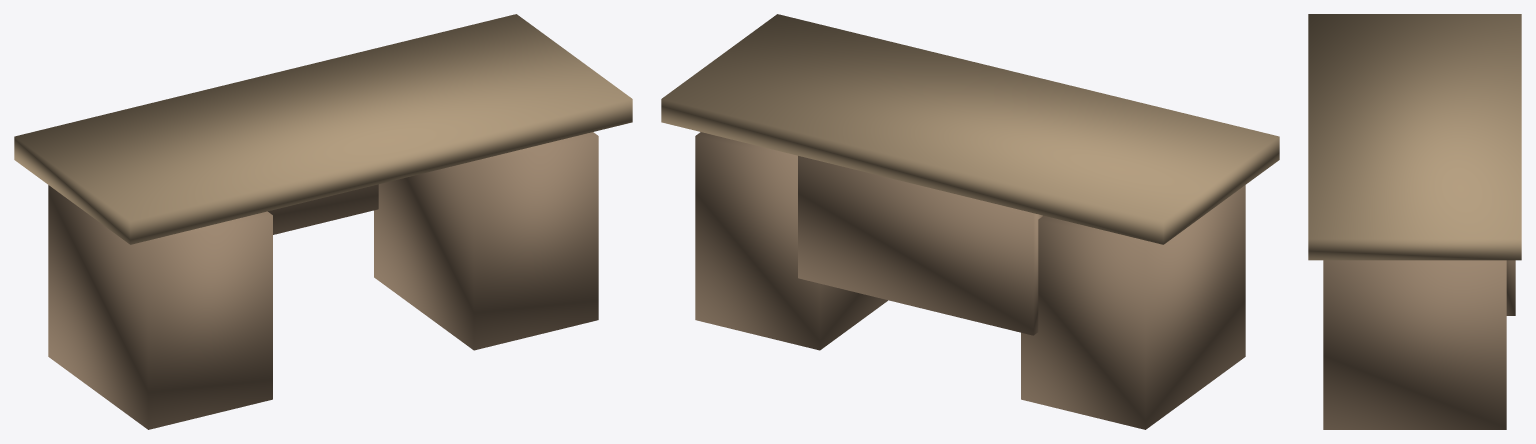
File: office_desk__wide.glb
The picture shows the model from 3 angles, left to right: view 1: azimuth 30°, elevation 25°; view 2: azimuth 150°, elevation 25°; view 3: azimuth 270°, elevation 25°; orthographic projection. The views are drawn at different scales.
Visible parts, largest first — view 1: world; view 2: world; view 3: world.
Part boxes in pixels (x1,y1,x2,y2): world: (14, 14, 632, 429); world: (661, 14, 1279, 429); world: (1308, 14, 1521, 429).
Size of the model in its own units: 1.8 by 0.755 by 0.72.
